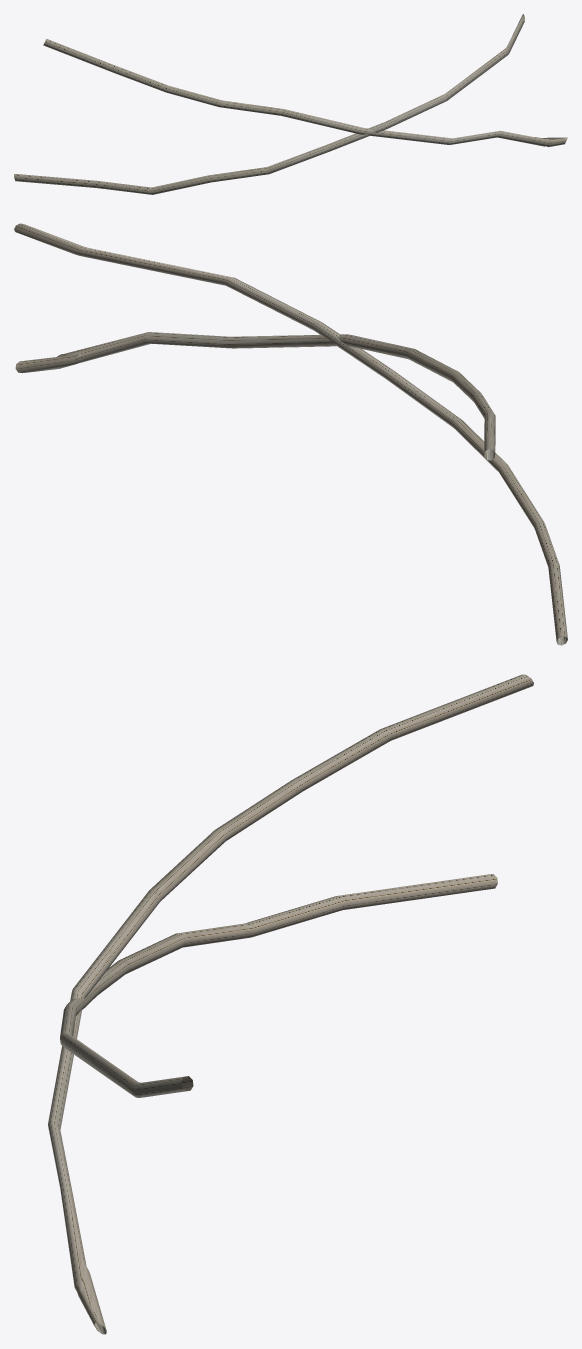
The model's file is sphere.007_lev3.glb.
3 renders of one model, top to bottom at view 1: azimuth 30°, elevation 25°; view 2: azimuth 150°, elevation 25°; view 3: azimuth 270°, elevation 25°, orthographic. The views are drawn at different scales.
Visible parts, largest first — view 1: sphere.007_lev3; view 2: sphere.007_lev3; view 3: sphere.007_lev3.
Boxes of the visible parts, left/top/right/bottom form: sphere.007_lev3: left=14, top=14, right=567, bottom=194; sphere.007_lev3: left=14, top=223, right=567, bottom=645; sphere.007_lev3: left=48, top=674, right=533, bottom=1334.
Bounding box in the file's own units: 1.63 × 0.4367 × 0.7489.
1 material, 1 textured.
